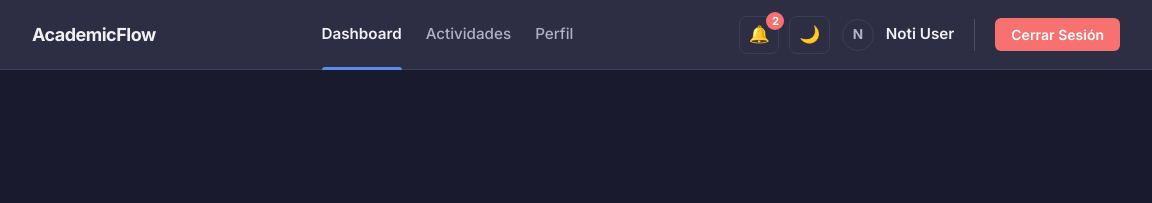
it: Navbar › muestra panel de notificaciones con contador y lista
This screenshot has width=1152, height=203.
Expected: the text "2" is shown, [766,12,784,30]
Step 1. Click the button named "Abrir notificaciones" → click(759, 34), box [739,16,780,54]
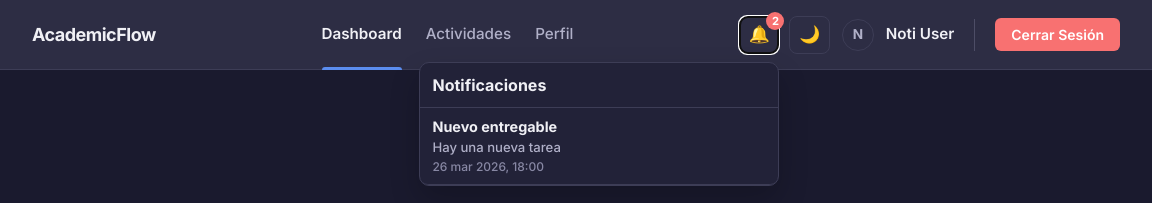
Expected: the text "Notificaciones" is shown, [432,74,546,94]
Expected: the text "Nuevo entregable" is shown, [432,118,557,134]
Expected: the text "Hay una nueva tarea" is shown, [432,138,561,154]
